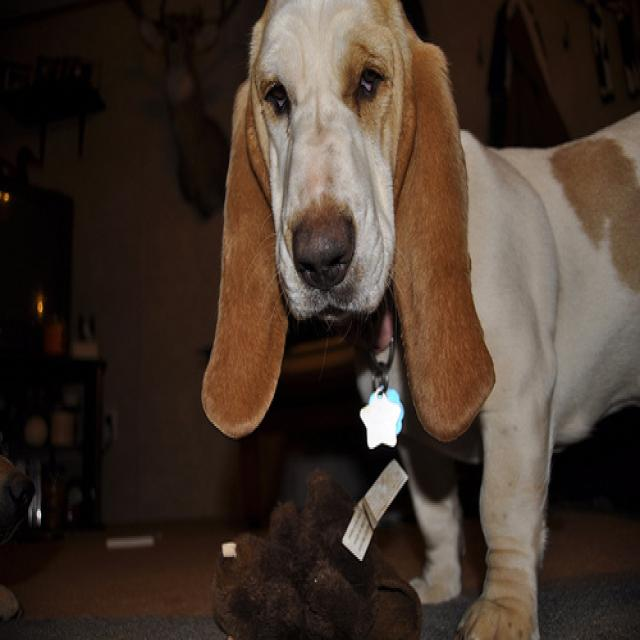dog-basset_hound: (191, 2, 637, 636)
